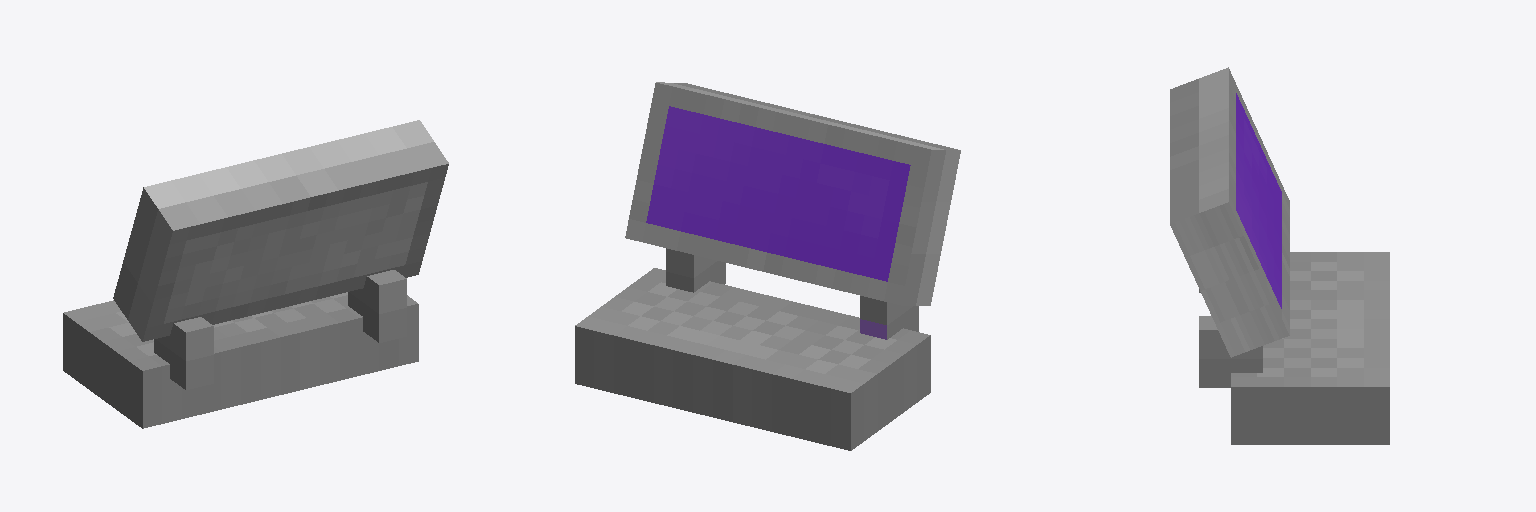
3 renders of one model, left to right at view 1: azimuth 30°, elevation 25°; view 2: azimuth 150°, elevation 25°; view 3: azimuth 270°, elevation 25°, orthographic.
Visible parts, largest first — view 1: screen, keyboard, power_button, pillar; view 2: screen, keyboard, pillar, power_button; view 3: screen, keyboard, pillar.
Part boxes in pixels (left/top/right/bottom): screen: left=113, top=120, right=448, bottom=341; keyboard: left=63, top=292, right=418, bottom=428; power_button: left=154, top=317, right=213, bottom=389; pillar: left=348, top=270, right=406, bottom=342; screen: left=625, top=82, right=960, bottom=305; keyboard: left=575, top=268, right=930, bottom=450; pillar: left=666, top=248, right=725, bottom=292; power_button: left=860, top=296, right=918, bottom=339; screen: left=1170, top=67, right=1289, bottom=357; keyboard: left=1231, top=252, right=1389, bottom=444; pillar: left=1199, top=316, right=1262, bottom=387.
Size of the model in its own units: 0.625 by 0.524 by 0.4321.
Materials: 2 (2 with a texture image).